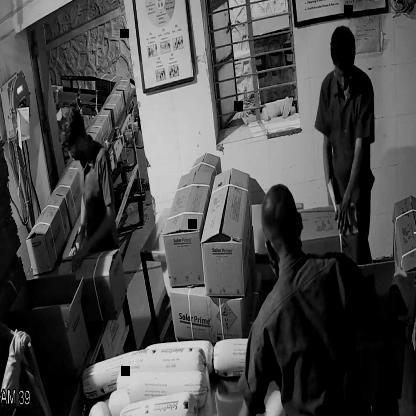goggles: (329, 58, 359, 85)
